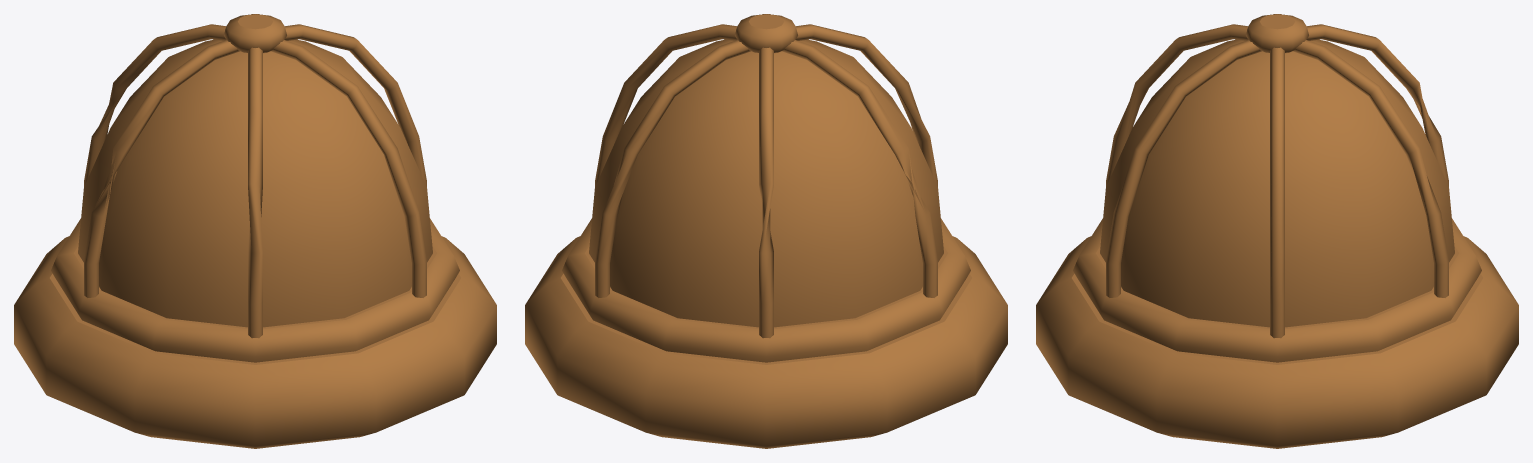
The model's file is SM_Menu_StageFootlight.fbx.
3 renders of one model, left to right at view 1: azimuth 30°, elevation 25°; view 2: azimuth 150°, elevation 25°; view 3: azimuth 270°, elevation 25°, orthographic.
Visible parts, largest first — view 1: SM_Menu_StageFootlight; view 2: SM_Menu_StageFootlight; view 3: SM_Menu_StageFootlight.
Boxes of the visible parts, x1,y1,x2,y2 form: SM_Menu_StageFootlight: [14, 14, 496, 448]; SM_Menu_StageFootlight: [525, 14, 1007, 448]; SM_Menu_StageFootlight: [1036, 14, 1518, 448].
Bounding box in the file's own units: 38 × 38 × 29.4.
